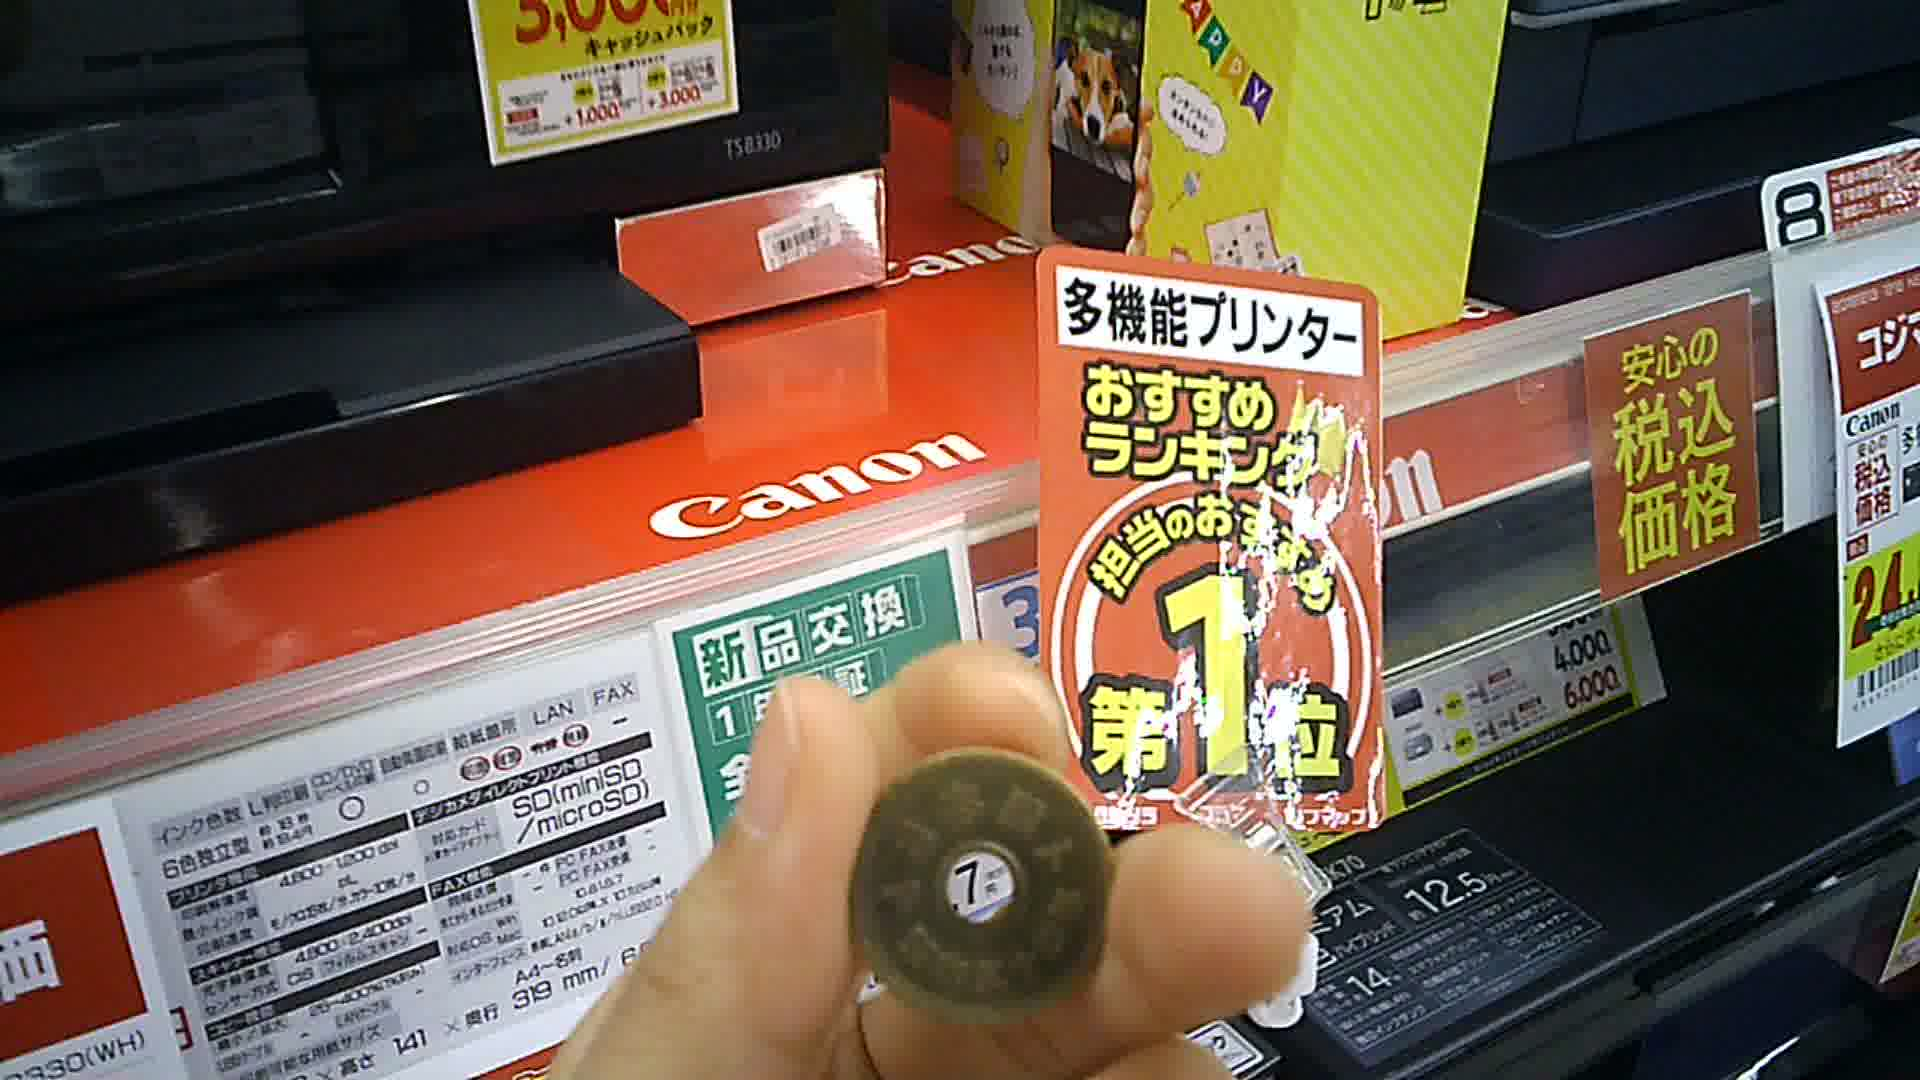5 Yen: (851, 738, 1120, 1022)
